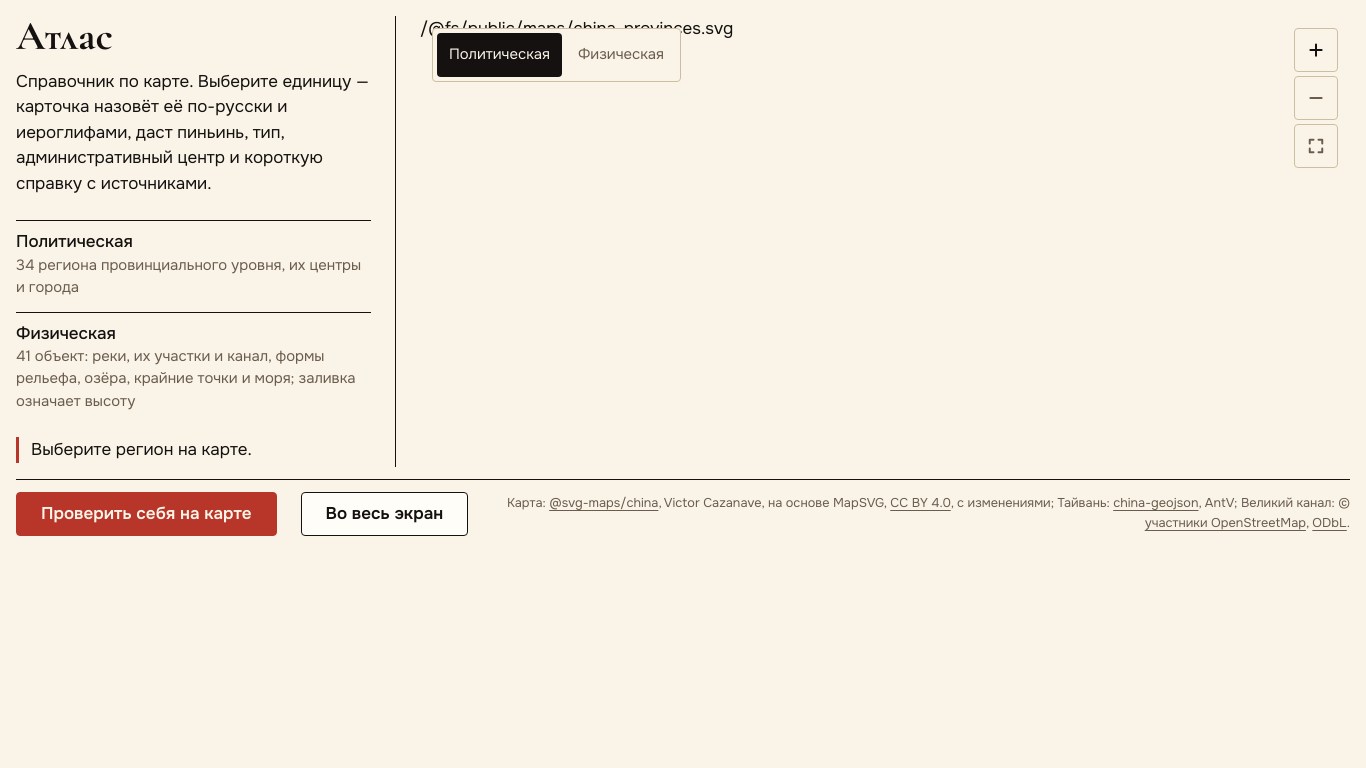
Test case: разворачивает атлас на весь экран той же кнопкой, что и раунд
Click the button "Во весь экран": (384, 514) [300,492,468,536]
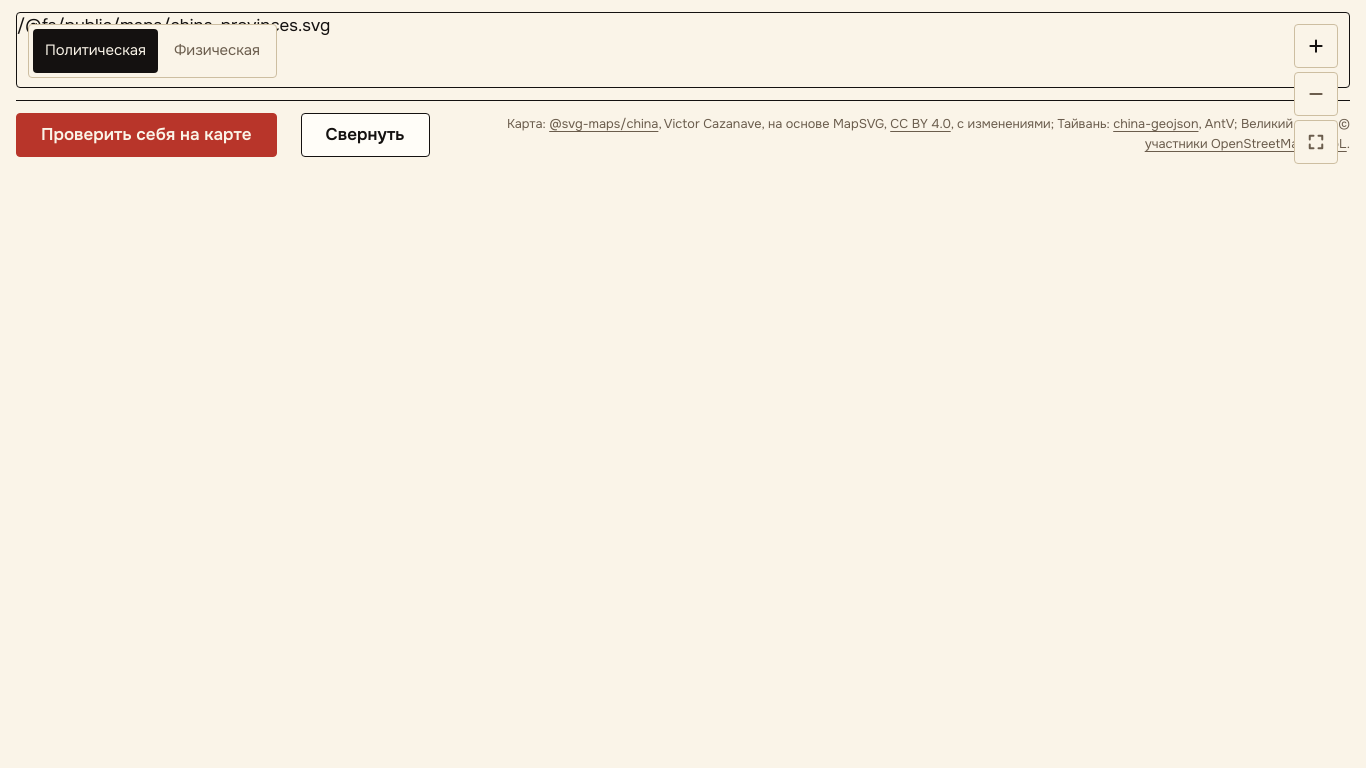
Check: the button "Свернуть" is shown, box [300,112,430,156]
